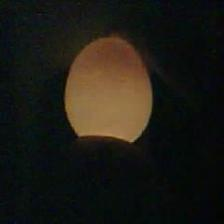infertile: (64, 34, 154, 149)
